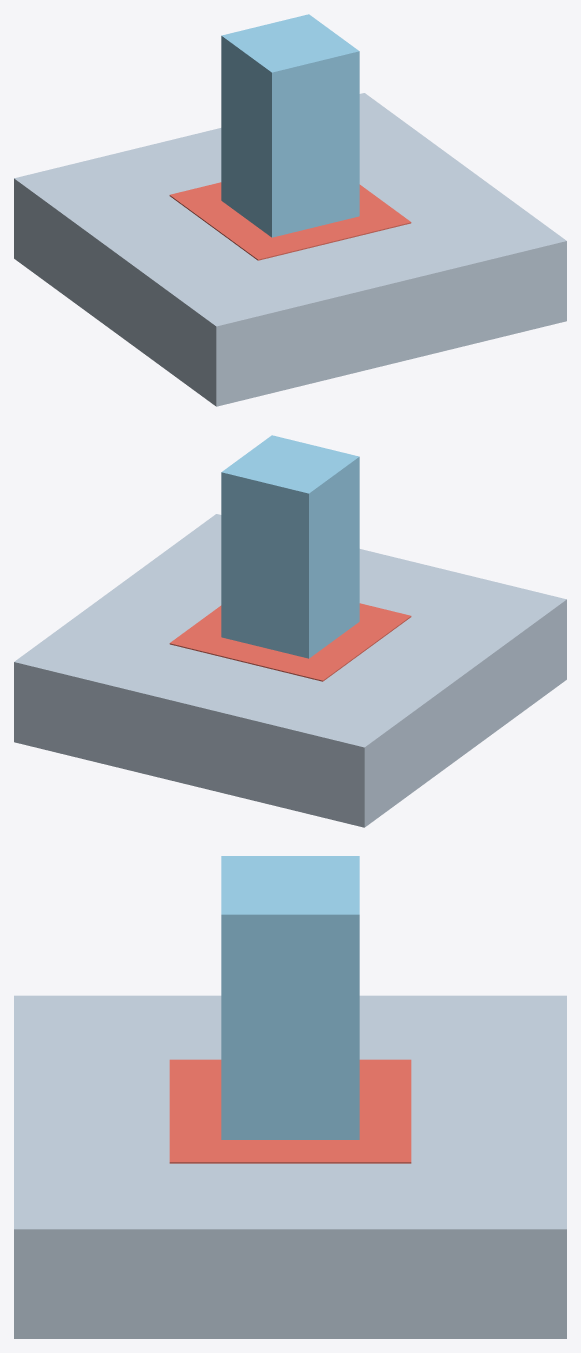
Rendered from rcc_isolated_footing_punching_shear.glb.
3 renders of one model, top to bottom at view 1: azimuth 30°, elevation 25°; view 2: azimuth 150°, elevation 25°; view 3: azimuth 270°, elevation 25°, orthographic. The views are drawn at different scales.
Visible parts, largest first — view 1: TrapezoidalIsolatedRCCFootingBase, CentralSquareRCCColumnStub, TwoWayPunchingShearCriticalPerimeter; view 2: TrapezoidalIsolatedRCCFootingBase, CentralSquareRCCColumnStub, TwoWayPunchingShearCriticalPerimeter; view 3: TrapezoidalIsolatedRCCFootingBase, CentralSquareRCCColumnStub, TwoWayPunchingShearCriticalPerimeter.
Boxes of the visible parts, left/top/right/bottom form: TrapezoidalIsolatedRCCFootingBase: left=14, top=93, right=566, bottom=406; CentralSquareRCCColumnStub: left=221, top=14, right=359, bottom=237; TwoWayPunchingShearCriticalPerimeter: left=169, top=182, right=411, bottom=260; TrapezoidalIsolatedRCCFootingBase: left=14, top=514, right=566, bottom=827; CentralSquareRCCColumnStub: left=221, top=435, right=359, bottom=658; TwoWayPunchingShearCriticalPerimeter: left=169, top=603, right=411, bottom=681; TrapezoidalIsolatedRCCFootingBase: left=14, top=995, right=566, bottom=1338; CentralSquareRCCColumnStub: left=221, top=856, right=359, bottom=1139; TwoWayPunchingShearCriticalPerimeter: left=169, top=1059, right=411, bottom=1163.
Size of the model in its own units: 1.6 by 1.08 by 1.6.
